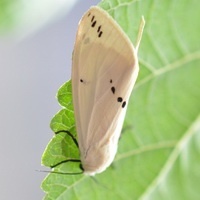insect: (42, 6, 144, 174)
